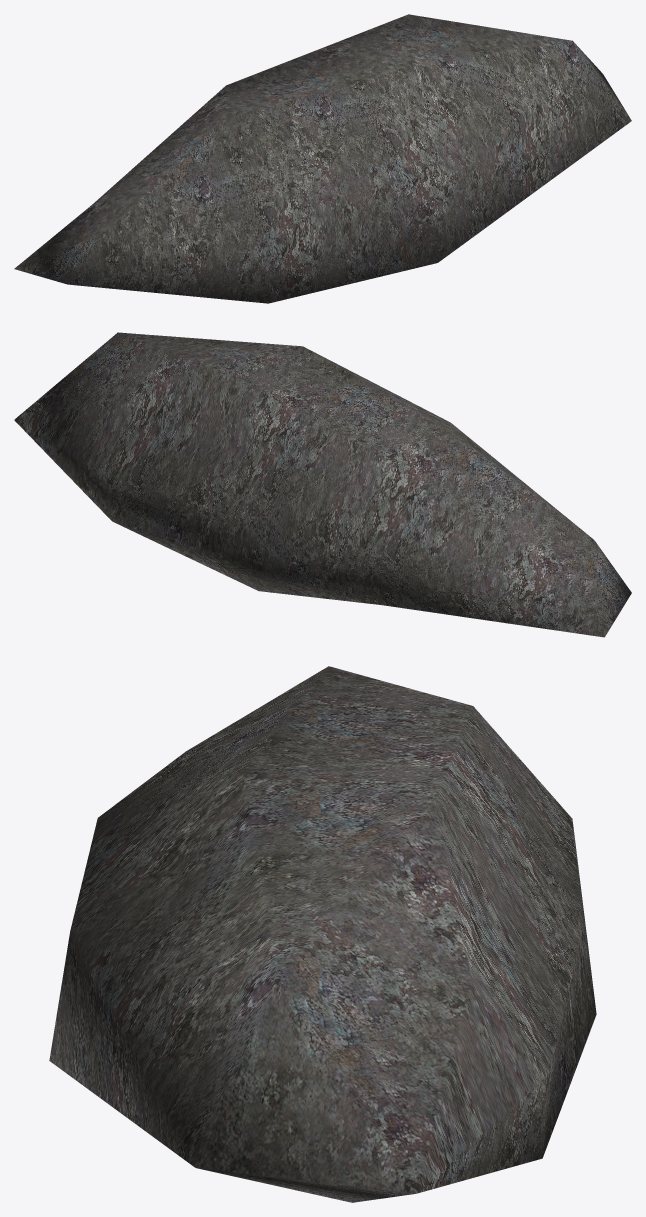
Rendered from rock_forestriverrock_sm_a1_l0.fbx.
3 renders of one model, top to bottom at view 1: azimuth 30°, elevation 25°; view 2: azimuth 150°, elevation 25°; view 3: azimuth 270°, elevation 25°, orthographic. The views are drawn at different scales.
Parts seen in each view (by area): view 1: mesh_node; view 2: mesh_node; view 3: mesh_node.
Boxes of the visible parts, <box> form: mesh_node: <box>14,14,631,303</box>; mesh_node: <box>14,332,631,637</box>; mesh_node: <box>49,666,596,1202</box>.
Size of the model in its own units: 0.9347 by 0.2968 by 0.3824.
1 material, 1 textured.
